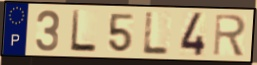3: (34, 8, 62, 53)
4: (178, 11, 208, 59)
5: (108, 12, 136, 53)
L: (140, 11, 171, 57), (68, 9, 98, 54)
R: (211, 12, 248, 57)
